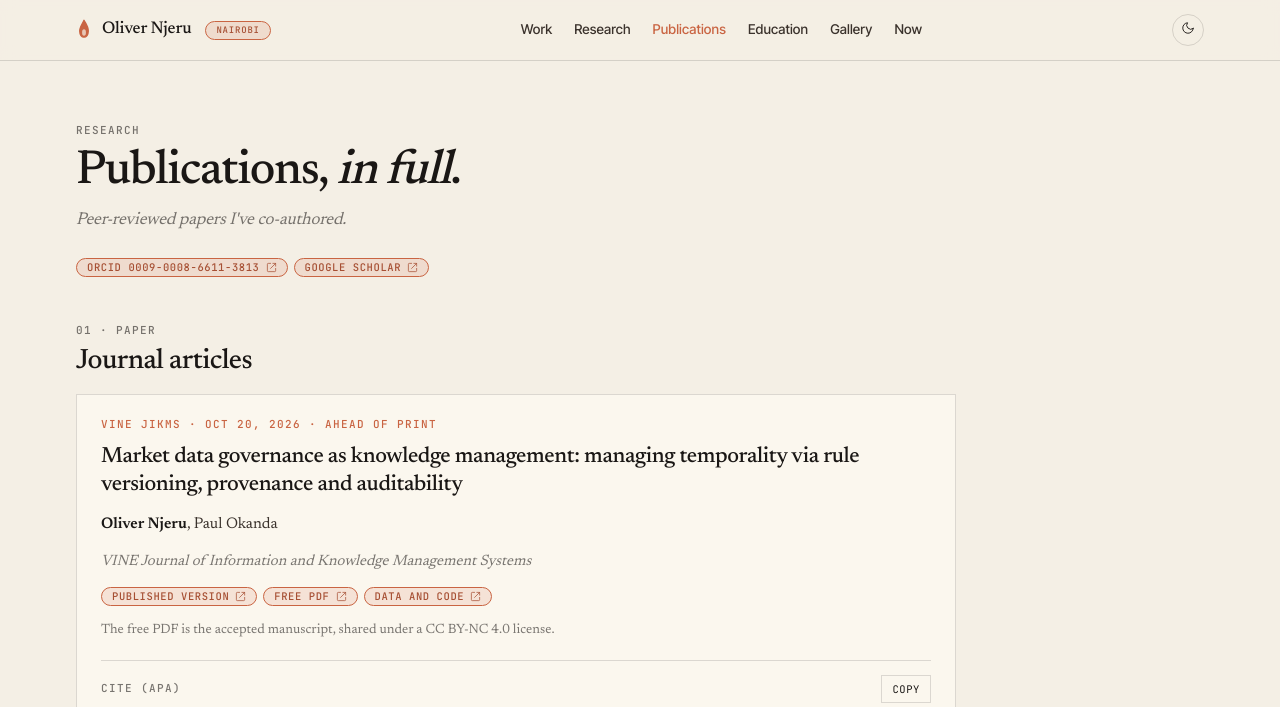
PublicationsPage › says so, and selects the text, when copying fails
The width and height of the screenshot is (1280, 707).
Click the button "Copy": (906, 689) [881,675,931,703]
(page scrolled)
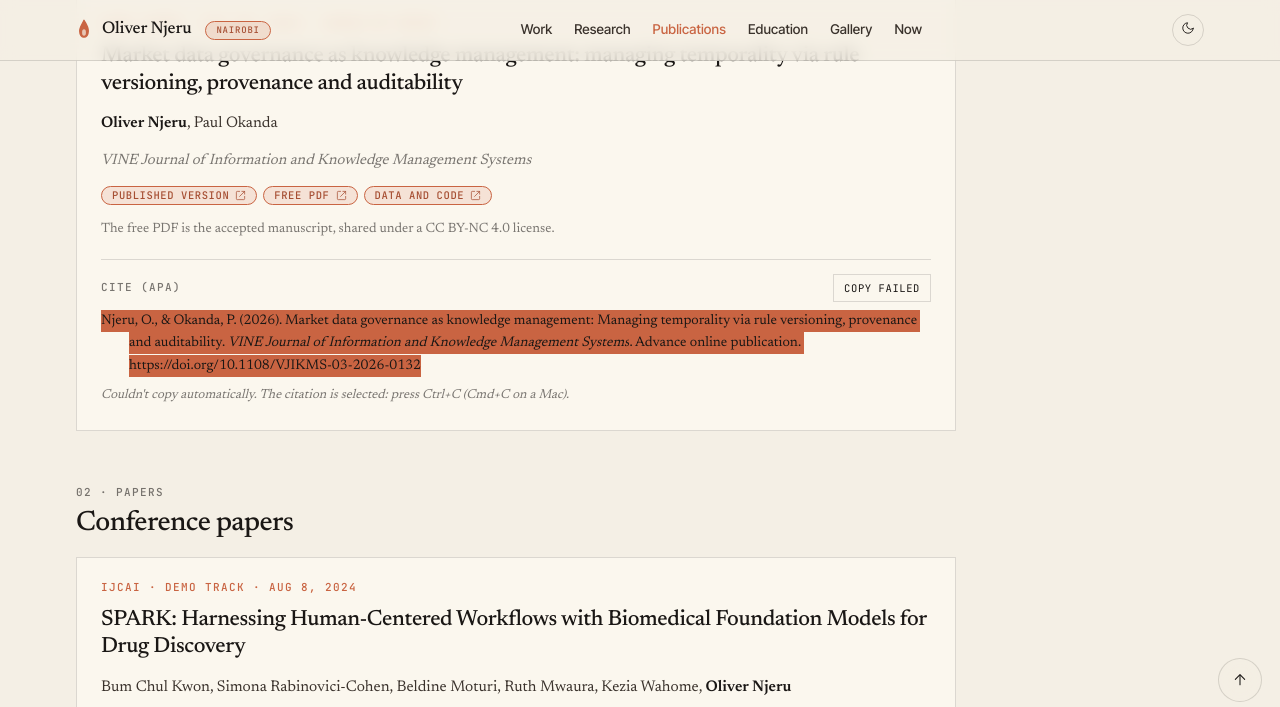
Result: the button "Copy failed" is shown at [833,274,931,302]
Result: the text "Couldn't copy automatically" is shown at [101,388,569,401]
